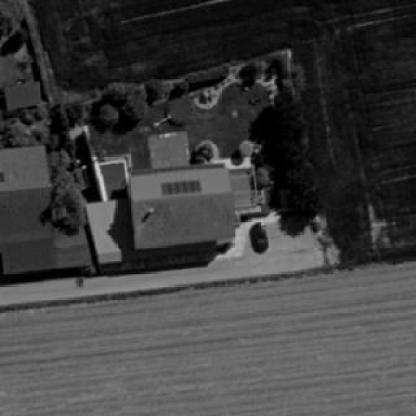solar-pv-panel: (161, 179, 201, 197)
